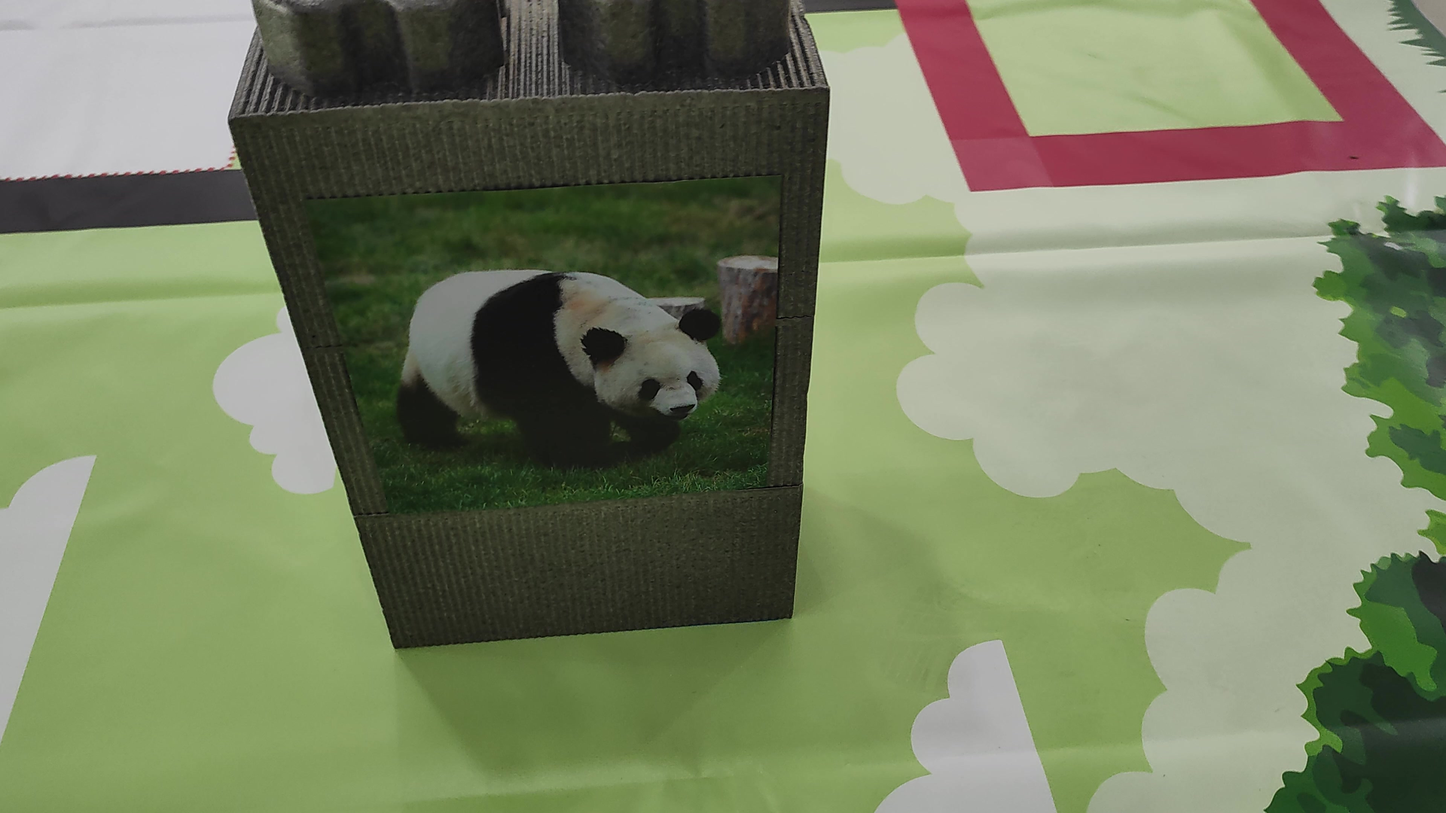panda: (380, 237, 755, 490)
